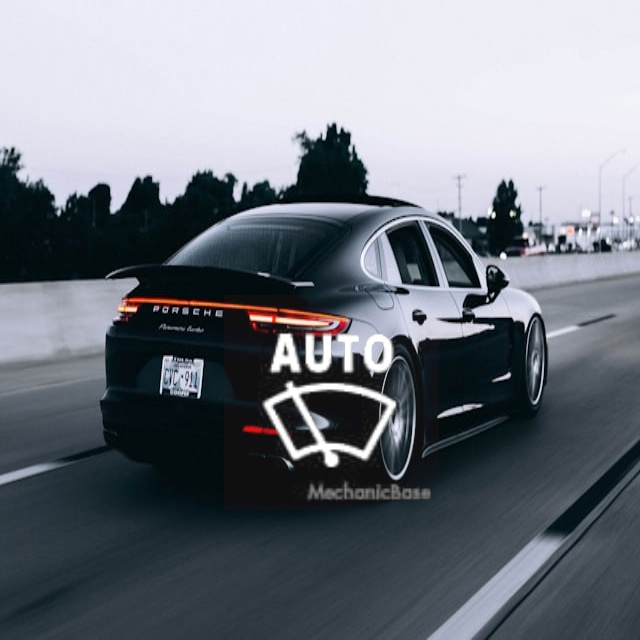symbol: (224, 295, 439, 510)
